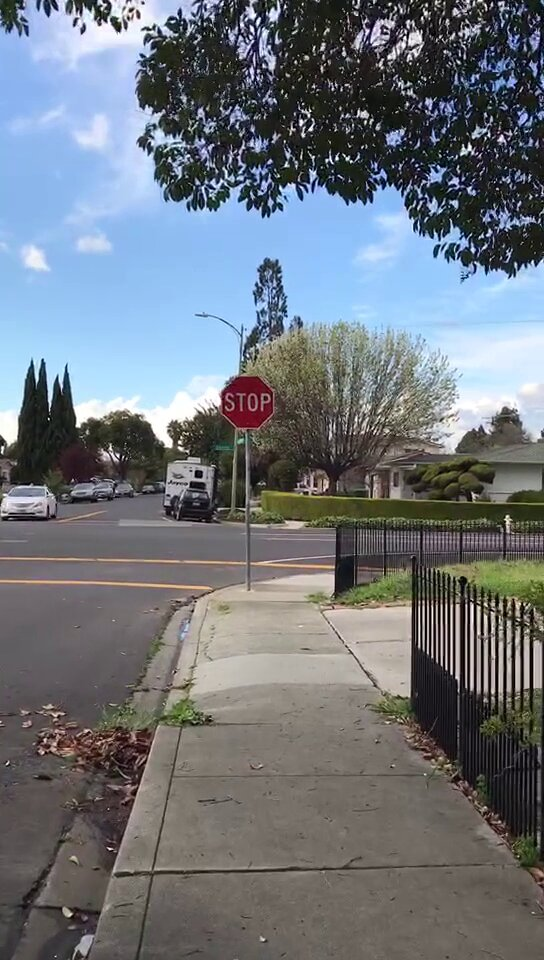stop_sign: (220, 377, 275, 431)
